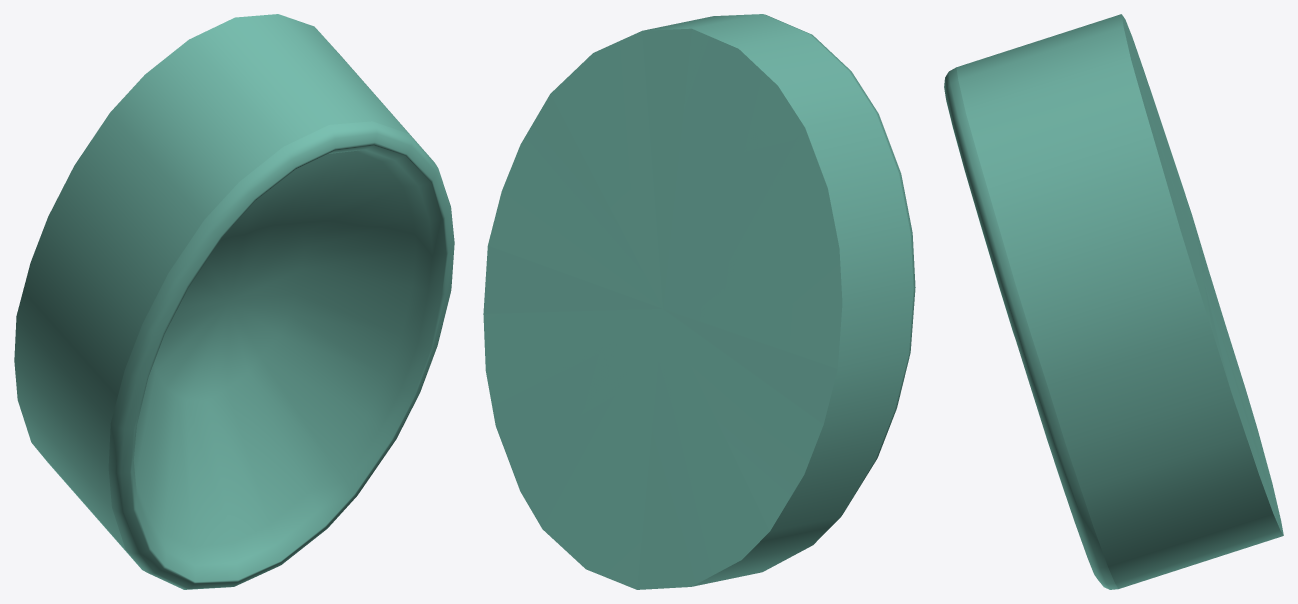
File: BR1_8shapes_Oval_Classic_Metal.001 3.glb
3 views of the same model, side by side, from view 1: azimuth 30°, elevation 25°; view 2: azimuth 150°, elevation 25°; view 3: azimuth 270°, elevation 25° (orthographic). The views are drawn at different scales.
Parts seen in each view (by area): view 1: BR1_8shapes_Oval_Classic_Metal.001; view 2: BR1_8shapes_Oval_Classic_Metal.001; view 3: BR1_8shapes_Oval_Classic_Metal.001.
Boxes of the visible parts, left/top/right/bottom form: BR1_8shapes_Oval_Classic_Metal.001: left=14, top=14, right=454, bottom=589; BR1_8shapes_Oval_Classic_Metal.001: left=483, top=14, right=915, bottom=589; BR1_8shapes_Oval_Classic_Metal.001: left=944, top=14, right=1283, bottom=589.
Size of the model in its own units: 0.4379 by 0.6539 by 0.3635.
